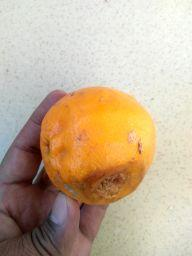Unripe: (41, 88, 156, 205)
